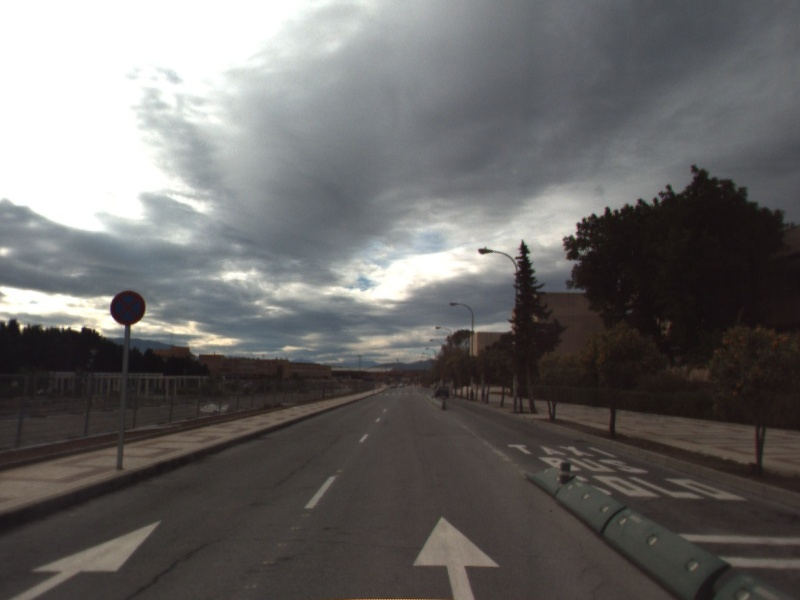STRAIGHT: (1, 517, 166, 600), (409, 514, 503, 600)
